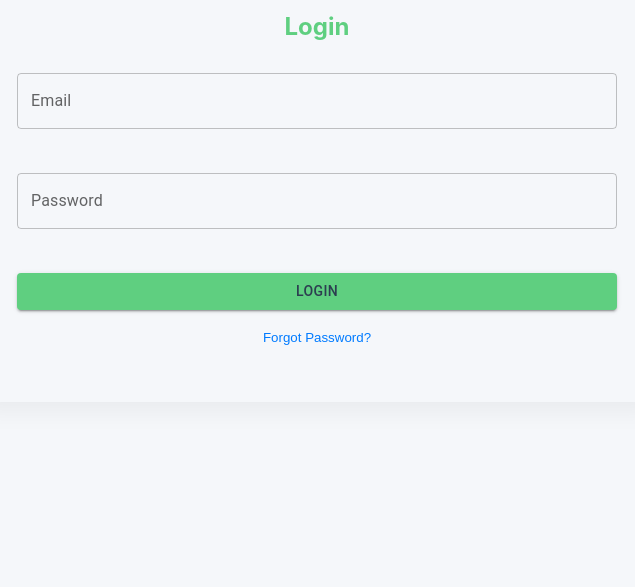
Scenario: Admin Password Reset - Login Page › should send password reset request on form submit
# Open forgot password form
Click the button "Forgot Password?".
click(317, 337)  # box top-left (263, 330), bottom-right (371, 345)
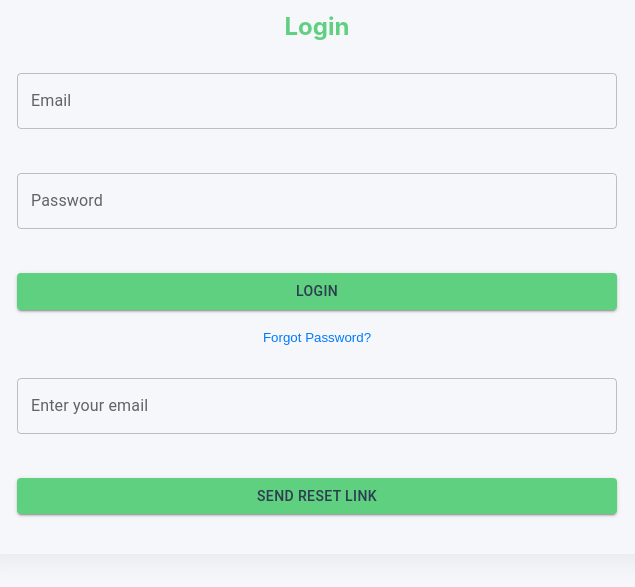
Type "test@admin.com" into the field named "email".
click(317, 406); type("test@admin.com")  # box top-left (17, 378), bottom-right (617, 434)
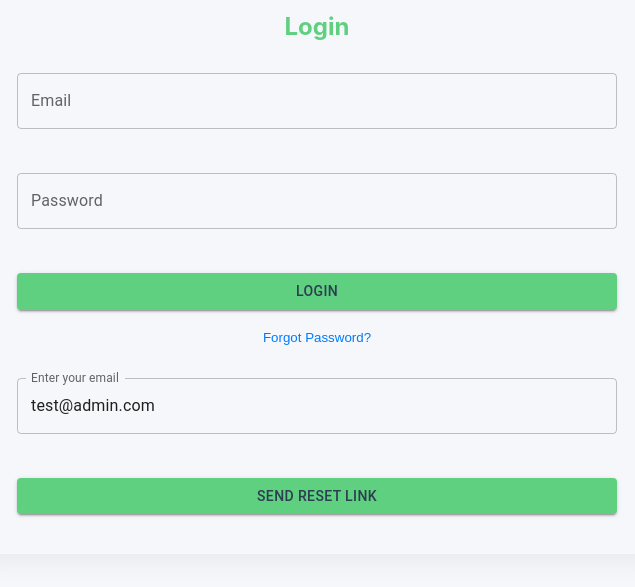
Click the button "Send Reset Link".
click(317, 496)  # box top-left (17, 478), bottom-right (617, 514)
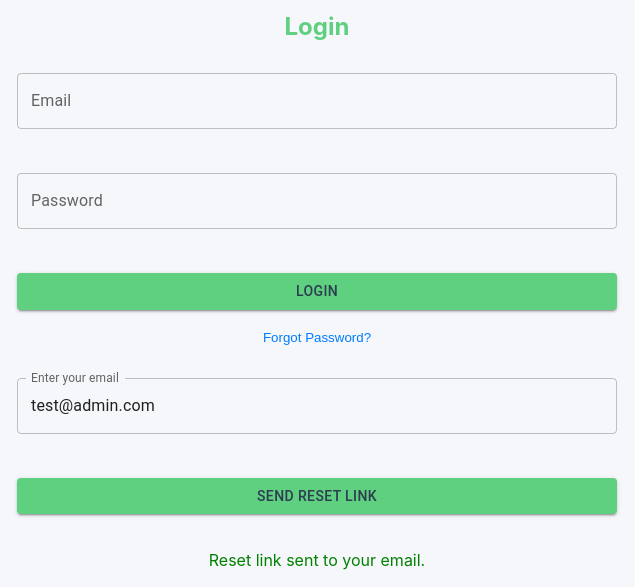
Expected: the text "Reset link sent to your email." is shown, top-left (209, 550), bottom-right (425, 570)
